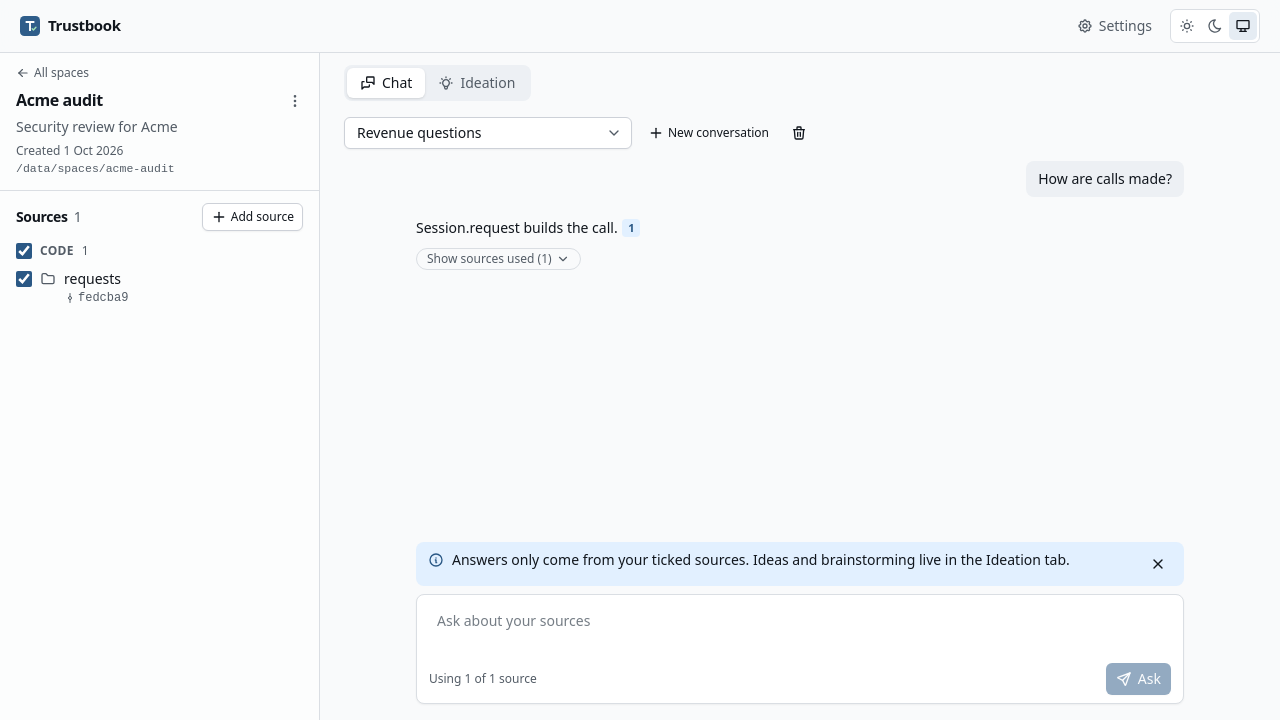
Test case: source viewer: code (G6) › shows monospace code with line numbers, the exact cited lines, file path and commit
The width and height of the screenshot is (1280, 720).
Click the button named "Citation 1: requests, src/requests" at (631, 228), box x1=622 y1=219 x2=640 y2=237
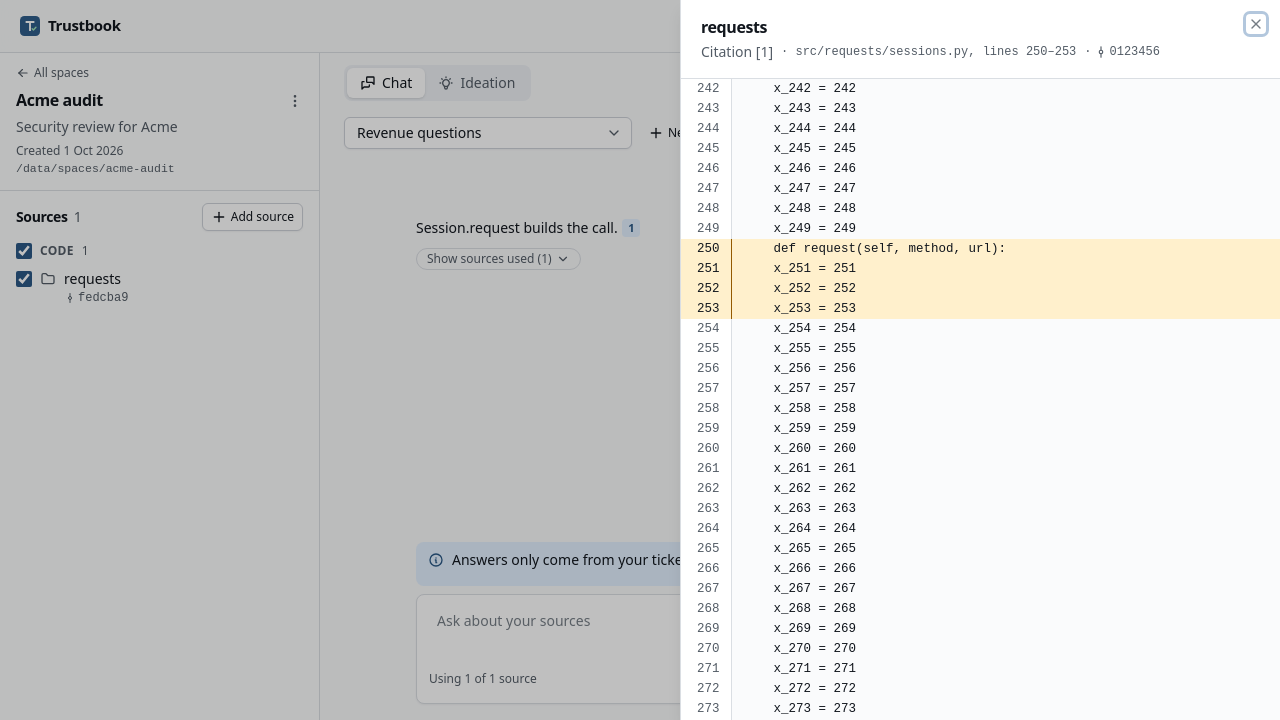
Now the text with test id "viewer-file" shows "src/requests/sessions.py, lines 250–253", box x1=781 y1=44 x2=1076 y2=60
Now the element with test id "viewer-commit" shows "0123456", box x1=1110 y1=45 x2=1160 y2=59
Now the text "def request(self, method, url):" is shown, box x1=732 y1=239 x2=1026 y2=259
